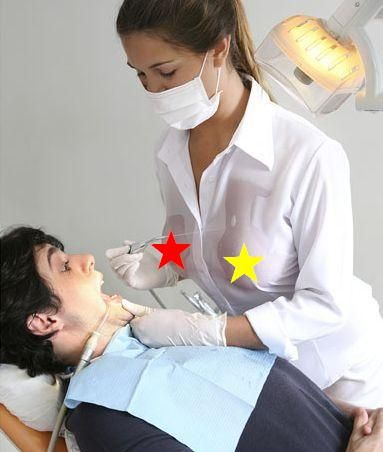mask: (140, 77, 224, 131)
